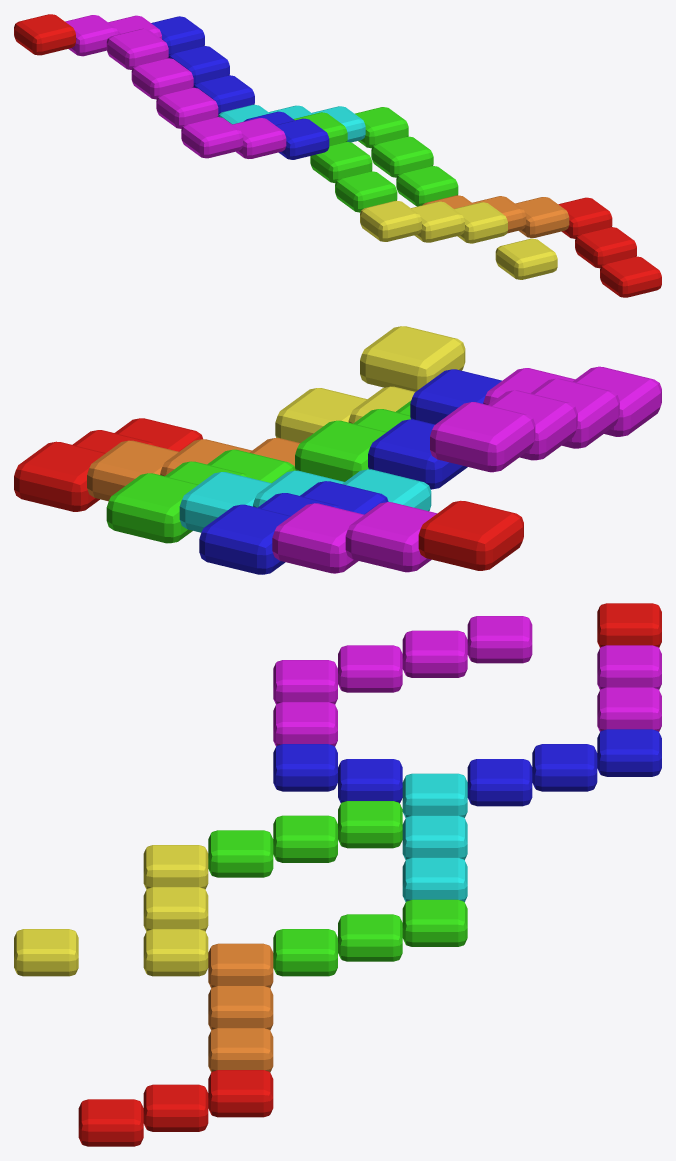
File: laberinto.fbx
The picture shows the model from 3 angles, top to bottom: view 1: azimuth 30°, elevation 25°; view 2: azimuth 150°, elevation 25°; view 3: azimuth 270°, elevation 25°; orthographic projection. The views are drawn at different scales.
Parts seen in each view (by area): view 1: laberinto.019, laberinto.007, laberinto, laberinto.027, laberinto.031, laberinto.021, laberinto.023, laberinto.009, laberinto.022, laberinto.028, laberinto.008, laberinto.001 (+17 smaller); view 2: laberinto.031, laberinto.023, laberinto.007, laberinto.020, laberinto.010, laberinto.024, laberinto.025, laberinto.002, laberinto.014, laberinto.030, laberinto.022, laberinto.021 (+18 smaller); view 3: laberinto.001, laberinto.006, laberinto.010, laberinto.023, laberinto, laberinto.022, laberinto.028, laberinto.002, laberinto.015, laberinto.016, laberinto.009, laberinto.017 (+20 smaller).
Part boxes in pixels (<box>): laberinto.019: <box>181,117,243,158</box>; laberinto.007: <box>495,238,557,279</box>; laberinto: <box>600,256,661,297</box>; laberinto.027: <box>360,200,421,241</box>; laberinto.031: <box>14,14,75,55</box>; laberinto.021: <box>156,87,218,128</box>; laberinto.023: <box>106,28,168,69</box>; laberinto.009: <box>371,136,433,177</box>; laberinto.022: <box>131,58,193,99</box>; laberinto.028: <box>335,171,397,212</box>; laberinto.008: <box>396,166,458,206</box>; laberinto.001: <box>575,227,636,268</box>; laberinto.031: <box>418,500,523,570</box>; laberinto.023: <box>430,402,535,472</box>; laberinto.007: <box>360,326,465,391</box>; laberinto.020: <box>199,504,290,574</box>; laberinto.010: <box>106,473,198,543</box>; laberinto.024: <box>272,503,363,573</box>; laberinto.025: <box>345,502,437,572</box>; laberinto.002: <box>14,441,105,511</box>; laberinto.014: <box>368,419,467,489</box>; laberinto.030: <box>295,420,386,481</box>; laberinto.022: <box>488,390,577,460</box>; laberinto.021: <box>531,378,619,448</box>; laberinto.001: <box>143,1084,208,1131</box>; laberinto.006: <box>143,929,208,976</box>; laberinto.010: <box>402,899,467,946</box>; laberinto.023: <box>467,616,532,663</box>; laberinto: <box>78,1099,143,1146</box>; laberinto.022: <box>402,630,467,677</box>; laberinto.028: <box>208,830,273,877</box>; laberinto.002: <box>208,1070,273,1117</box>; laberinto.015: <box>467,759,532,806</box>; laberinto.016: <box>532,744,597,791</box>; laberinto.009: <box>338,914,402,961</box>; laberinto.017: <box>273,744,337,791</box>.
Size of the model in its own units: 2000 by 993 by 2000.
